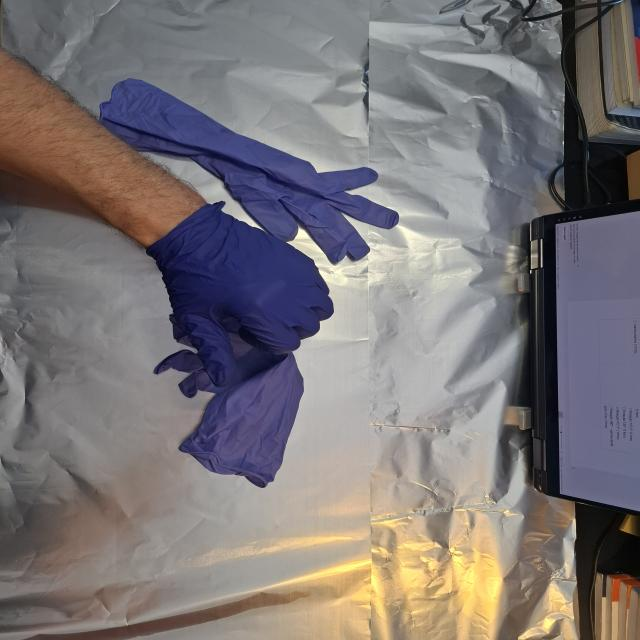glove_on: (156, 204, 337, 389)
